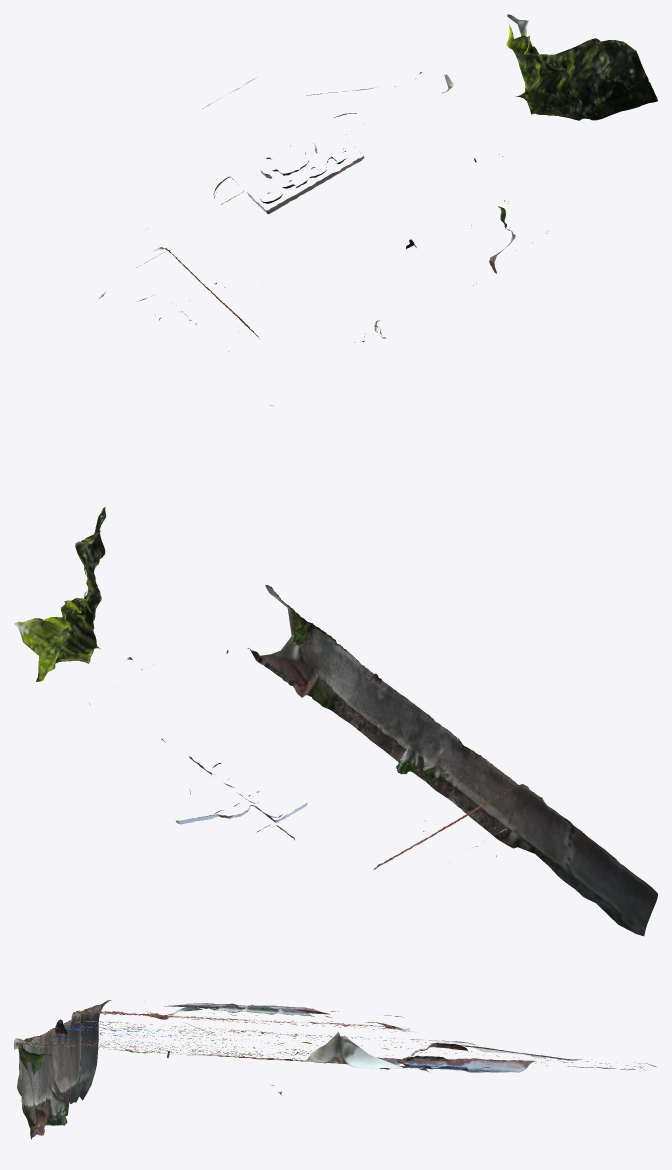
File: TOPO.glb
The picture shows the model from 3 angles, top to bottom: view 1: azimuth 30°, elevation 25°; view 2: azimuth 150°, elevation 25°; view 3: azimuth 270°, elevation 25°; orthographic projection. The views are drawn at different scales.
Bounding box in the file's own units: 13.3 × 6.91 × 9.78.
1 material, 1 textured.
